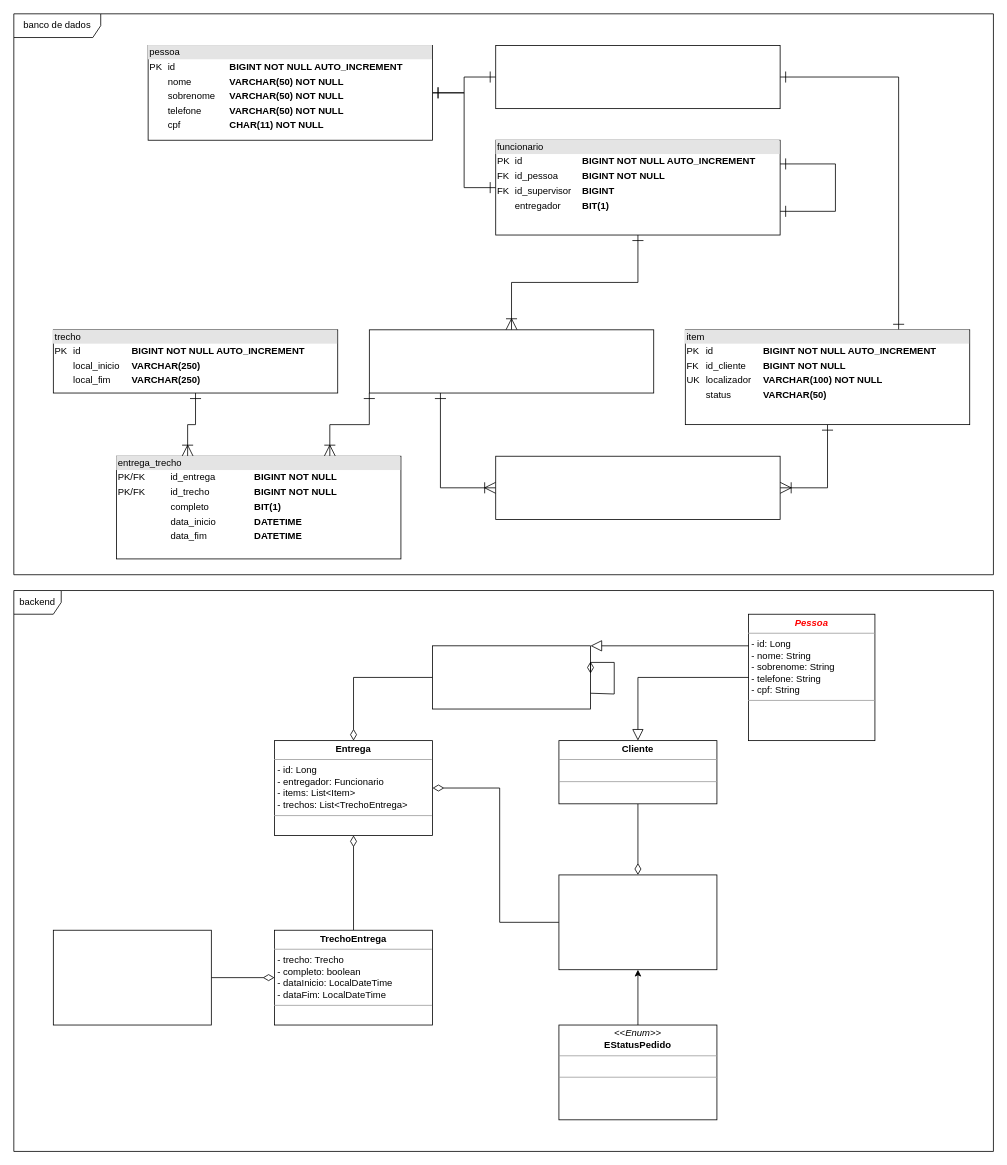
Some shapes in this 1007 by 1165 pixel diagram are drawn without their labels. Here are the shapes that lost their labels. From the top down, the centre of each, then its label:
At (x=637, y=77): "cliente PK id BIGINT NOT NULL AUTO_INCREMENT FK id_pessoa BIGINT NOT NULL".
At (x=511, y=361): "entrega PK id BIGINT NOT NULL AUTO_INCREMENT FK id_entregador BIGINT".
At (x=637, y=487): "entrega_item PK/FK id_entrega BIGINT NOT NULL PK/FK id_item BIGINT NOT NULL".
At (x=511, y=677): "Funcionario - supervisor: Funcionario - entregador: boolean".
At (x=637, y=922): "Item - id: Long - localizador: String - status: EStatusPedido - cliente: Cliente".
At (x=132, y=977): "Trecho - id: Long - localInicio: String - localFim: String".
